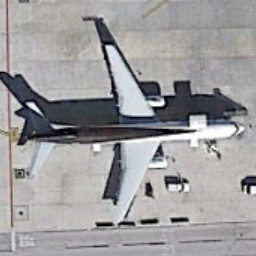Airplane: (14, 30, 253, 242)
